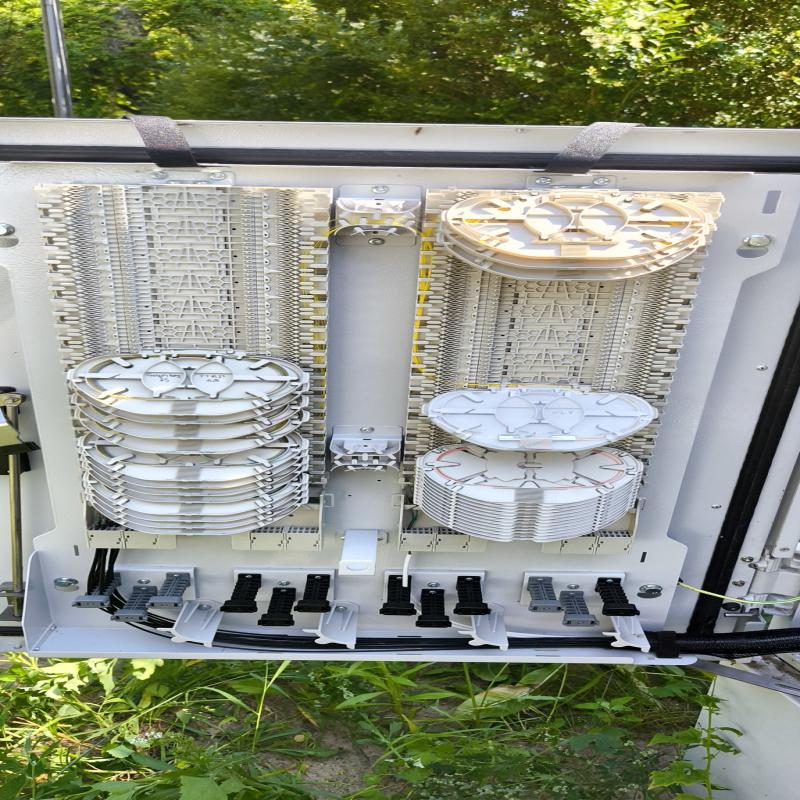NT-Gehause: (12, 120, 796, 800)
Spleiskassetten: (39, 179, 354, 548), (405, 188, 720, 552)
